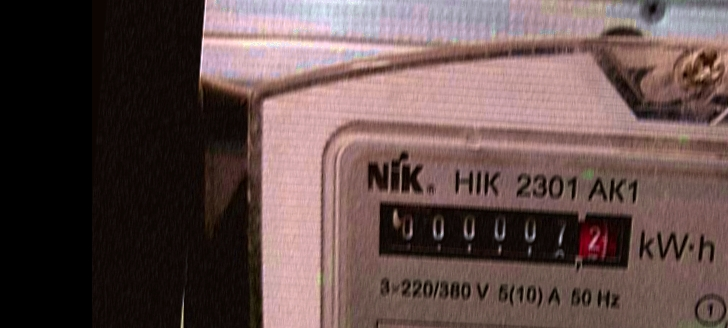0: (458, 213, 478, 242), (428, 213, 447, 242), (397, 213, 416, 241), (520, 215, 538, 244), (490, 214, 507, 242)
2: (585, 224, 603, 254)
7: (550, 218, 568, 248)
screen: (367, 189, 644, 281)
